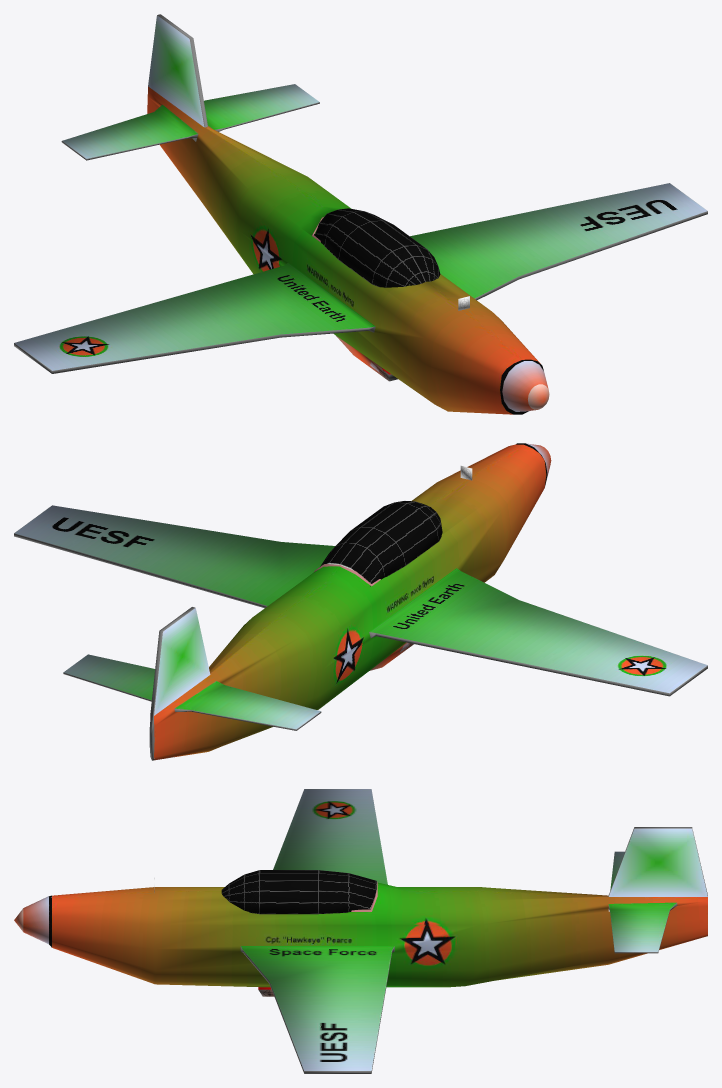
The picture shows the model from 3 angles, top to bottom: view 1: azimuth 30°, elevation 25°; view 2: azimuth 150°, elevation 25°; view 3: azimuth 270°, elevation 25°; orthographic projection. The views are drawn at different scales.
Visible parts, largest first — view 1: cylinder1, cylinder6; view 2: cylinder1, cylinder6; view 3: cylinder1, cylinder6.
Part boxes in pixels (x1,y1,x2,y2): cylinder1: (14,14,707,414); cylinder6: (314,208,440,287); cylinder1: (14,443,707,760); cylinder6: (320,501,442,586); cylinder1: (14,789,707,1073); cylinder6: (221,870,376,914).
Size of the model in its own units: 8.77 by 2.37 by 9.12.
